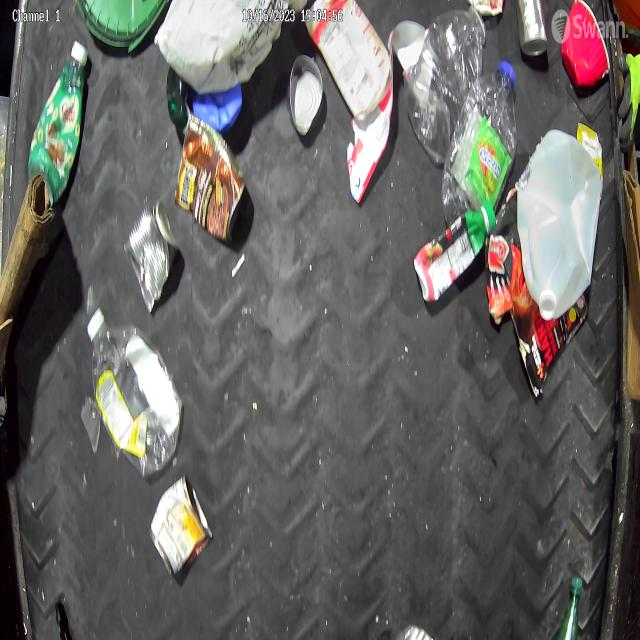can: (174, 112, 247, 242), (147, 475, 214, 579), (122, 200, 180, 313), (287, 52, 325, 138), (514, 0, 549, 58)
milk_jug: (516, 127, 602, 322), (154, 0, 289, 94), (304, 0, 391, 121)
plastic_bottle: (87, 307, 184, 479), (404, 4, 487, 167), (441, 59, 517, 228)
